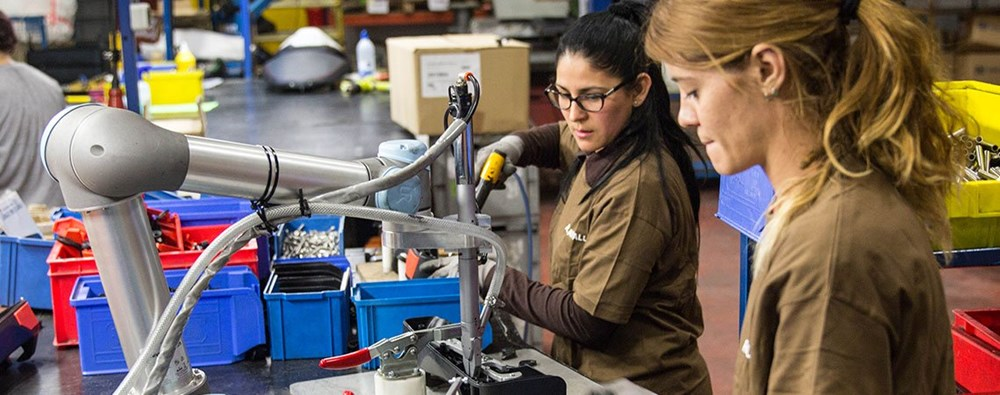person: (642, 1, 956, 395), (477, 13, 714, 395)
robot: (38, 69, 509, 395)
